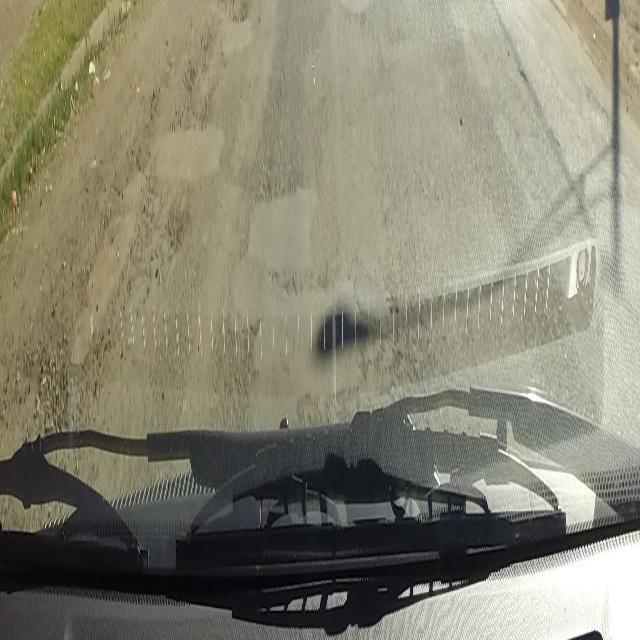pothole: (229, 0, 247, 29)
